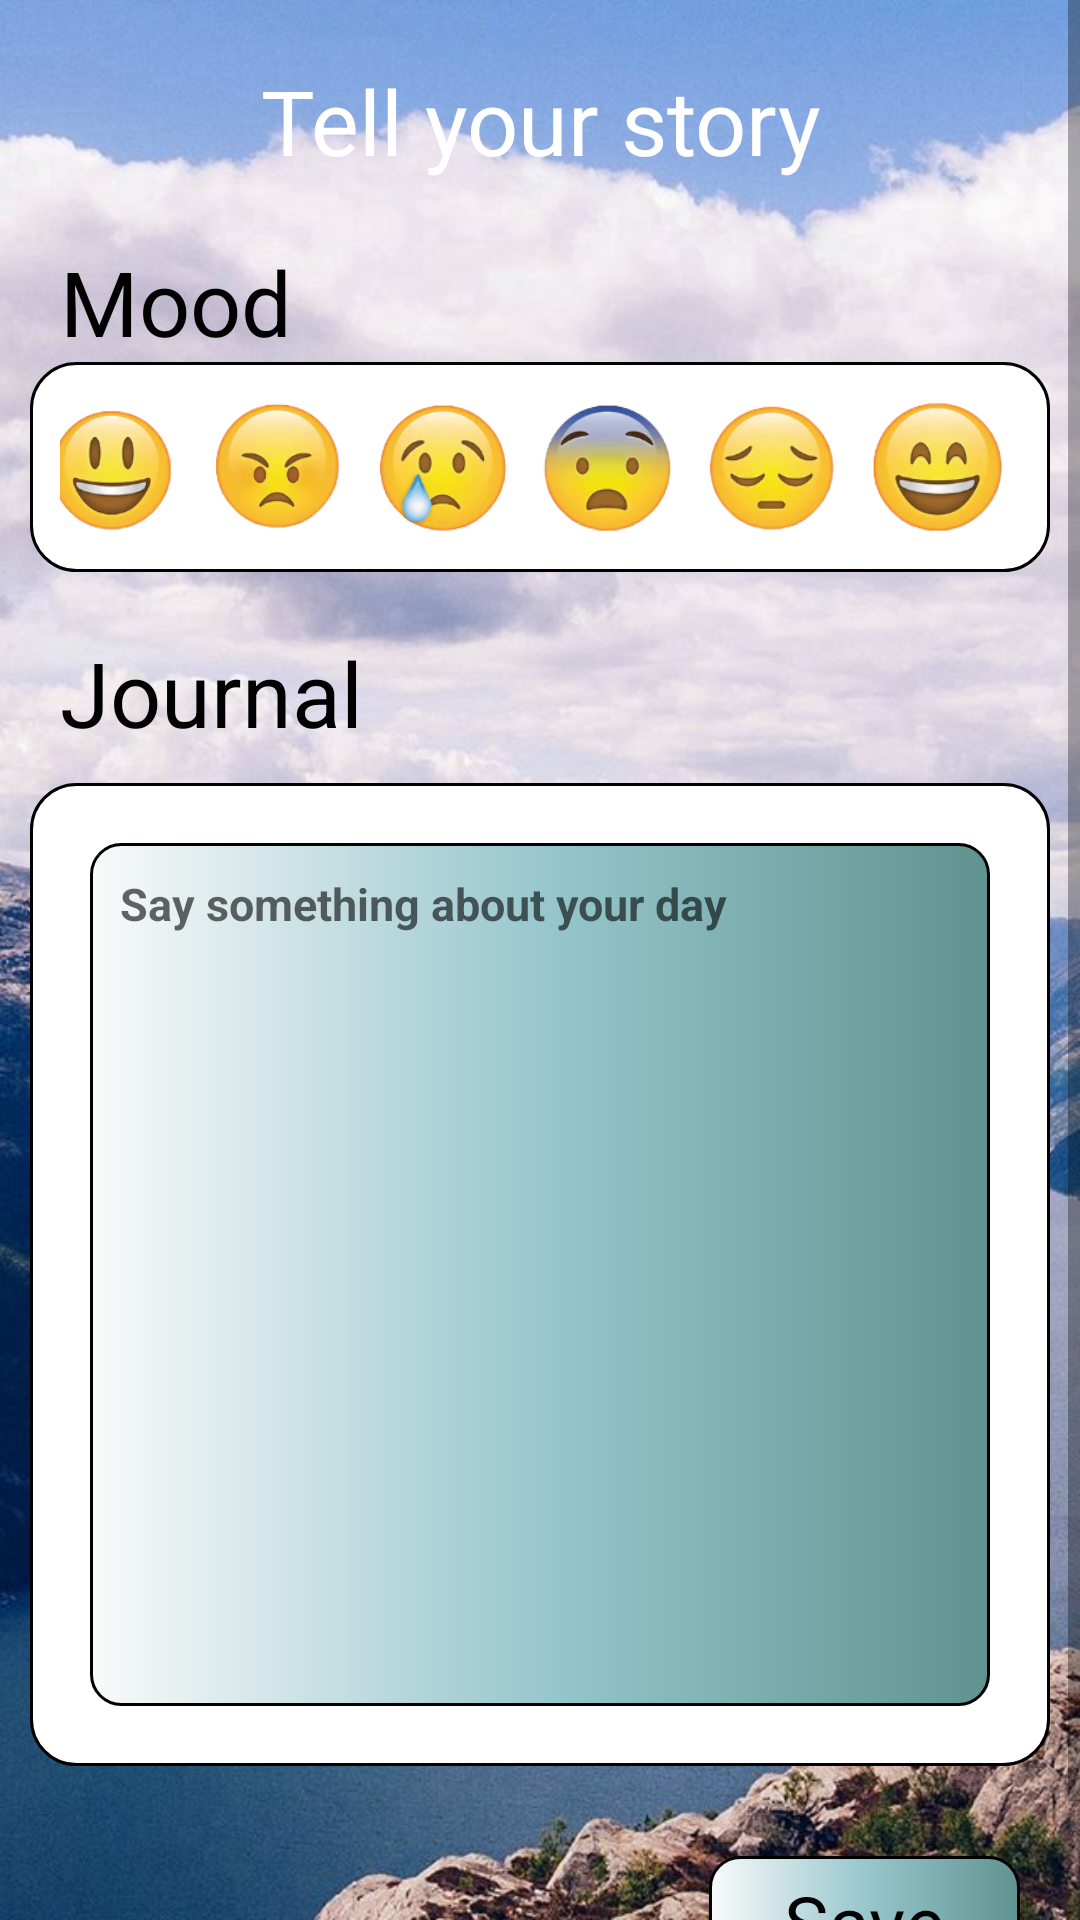

Icon bounding boxes for this 1080*1920 phone screenshot, format (x1, y1, x2, y2):
angry: (216, 404, 339, 528)
excited: (873, 403, 1002, 531)
happy: (60, 411, 171, 530)
sad: (380, 405, 506, 531)
worried: (544, 405, 671, 531)
